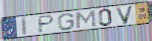0: (98, 8, 113, 27)
G: (58, 13, 76, 31)
I: (21, 16, 29, 36)
M: (75, 9, 97, 29)
P: (38, 14, 56, 34)
V: (115, 5, 135, 25)
